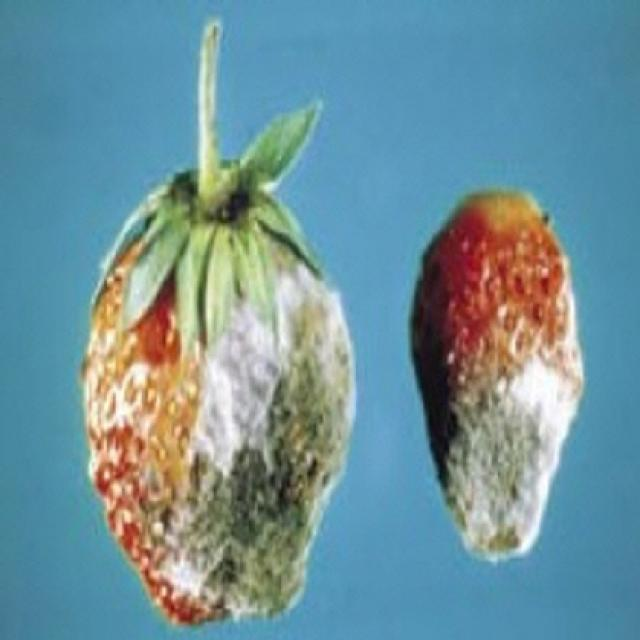Gray Mold: (82, 223, 358, 625), (412, 221, 586, 564)
